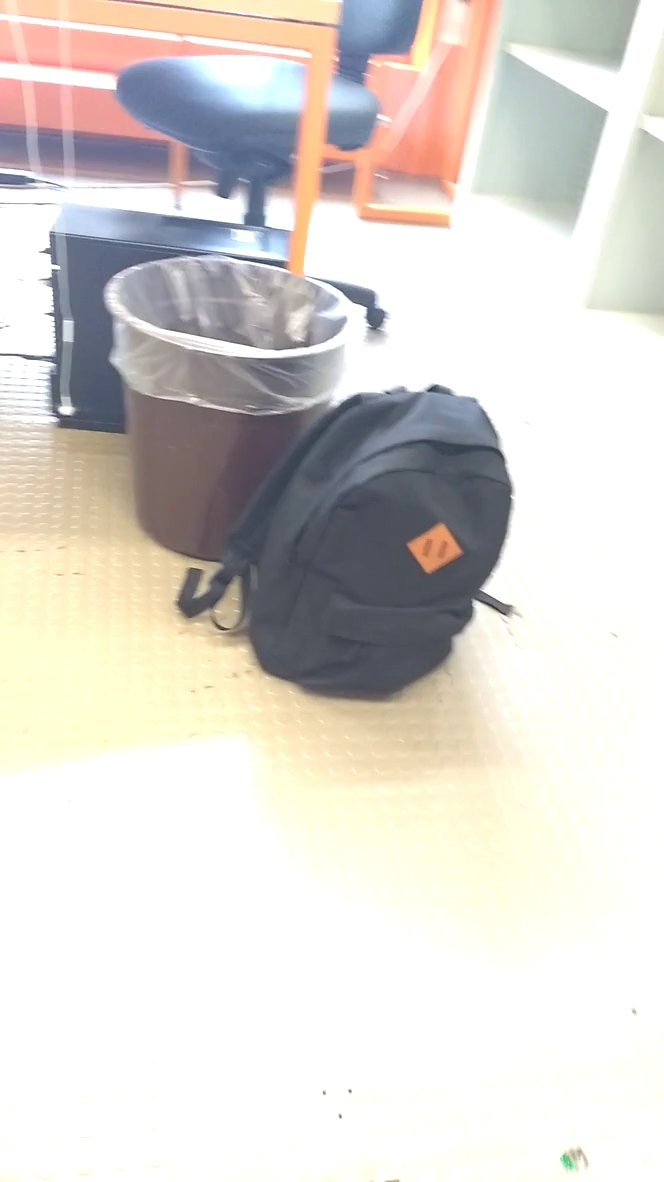bag: (168, 381, 521, 706)
bin: (88, 244, 366, 575)
chair: (114, 1, 454, 346)
